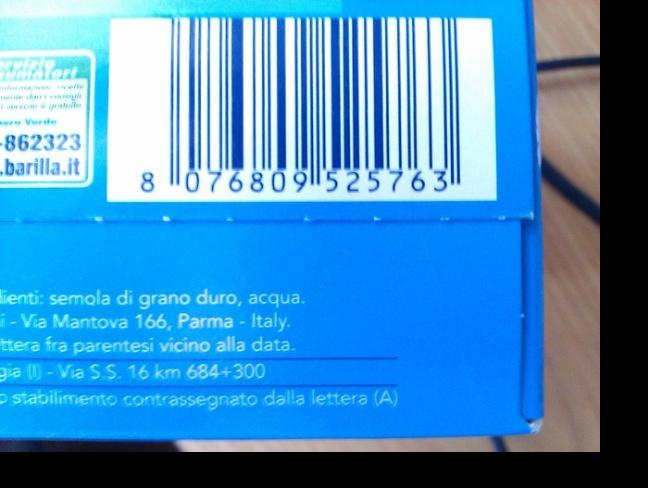Barcode: (111, 19, 491, 200)
